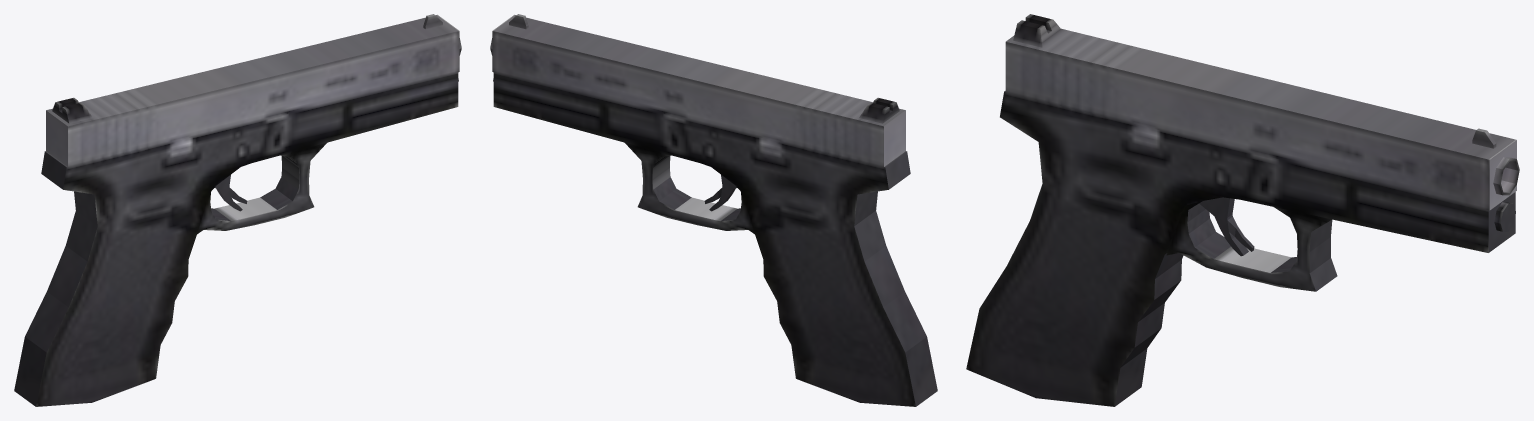
Rendered from Glock.fbx.
3 renders of one model, left to right at view 1: azimuth 30°, elevation 25°; view 2: azimuth 150°, elevation 25°; view 3: azimuth 330°, elevation 25°, orthographic. The views are drawn at different scales.
Visible parts, largest first — view 1: Body, Slide, Trigger; view 2: Body, Slide, Trigger; view 3: Body, Slide, Trigger.
Boxes of the visible parts, <box> form: Body: <box>14,38,461,406</box>; Slide: <box>46,14,459,167</box>; Trigger: <box>214,175,247,211</box>; Body: <box>490,38,937,406</box>; Slide: <box>492,14,905,167</box>; Trigger: <box>704,175,737,211</box>; Body: <box>966,91,1519,406</box>; Slide: <box>1005,14,1516,210</box>; Trigger: <box>1199,197,1254,256</box>.
Bounding box in the file's own units: 471 × 309 × 42.
1 material, 1 textured.
